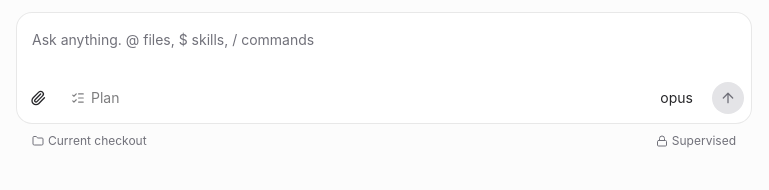
Scenario: Composer › keeps the draft and explains a failed start
The width and height of the screenshot is (769, 190).
Type "keep me" into the text box. click: [384, 44]
box: left=16, top=12, right=752, bottom=76
Then press Enter
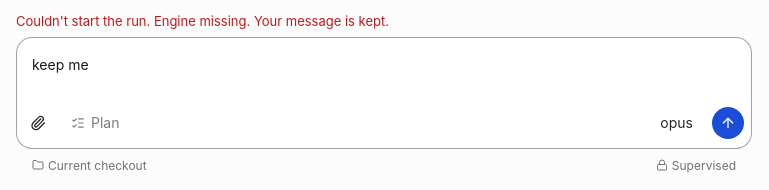
Expected: the message shows "Engine missing.", left=16, top=13, right=389, bottom=29
